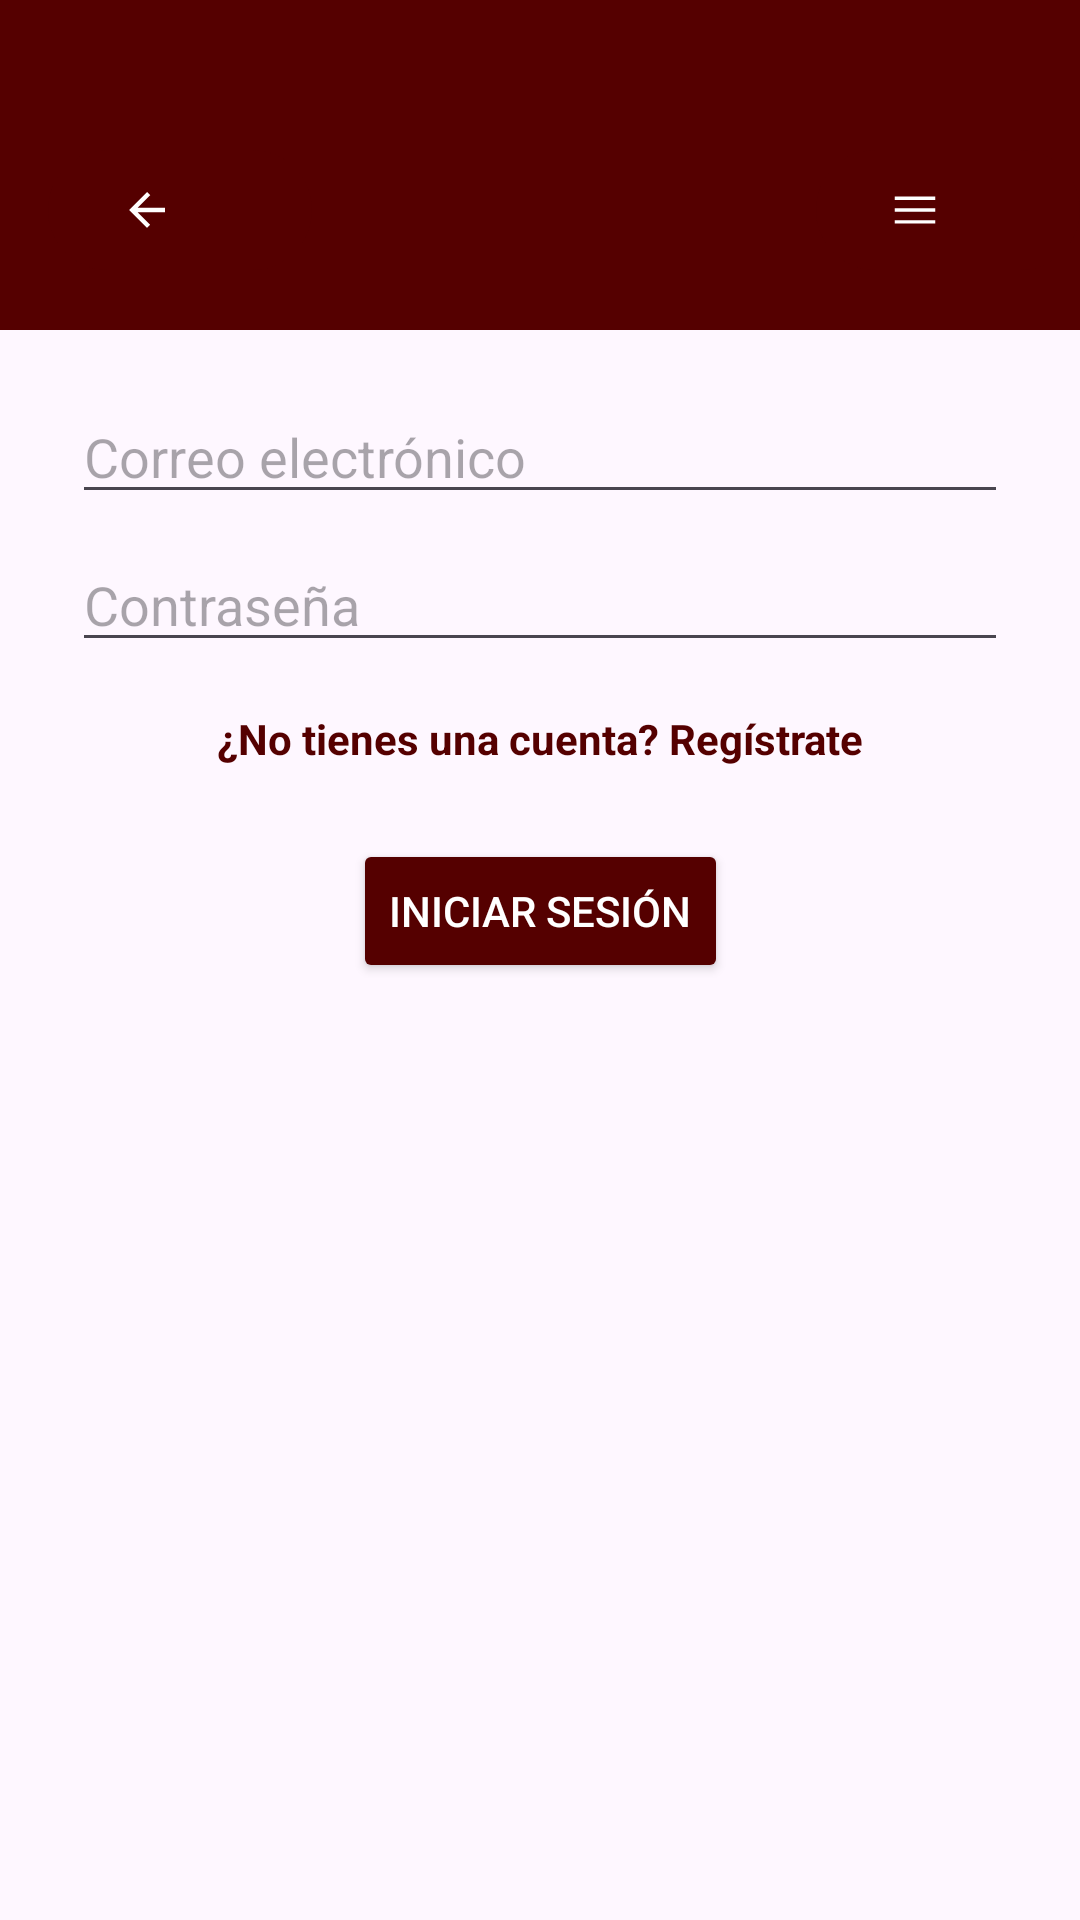

Locate icon controls on the screen. Image size 1080px×1920px, boxes as (x1, y1, x2, y2).
Menú: (894, 196, 936, 224)
Volver: (129, 192, 165, 228)
